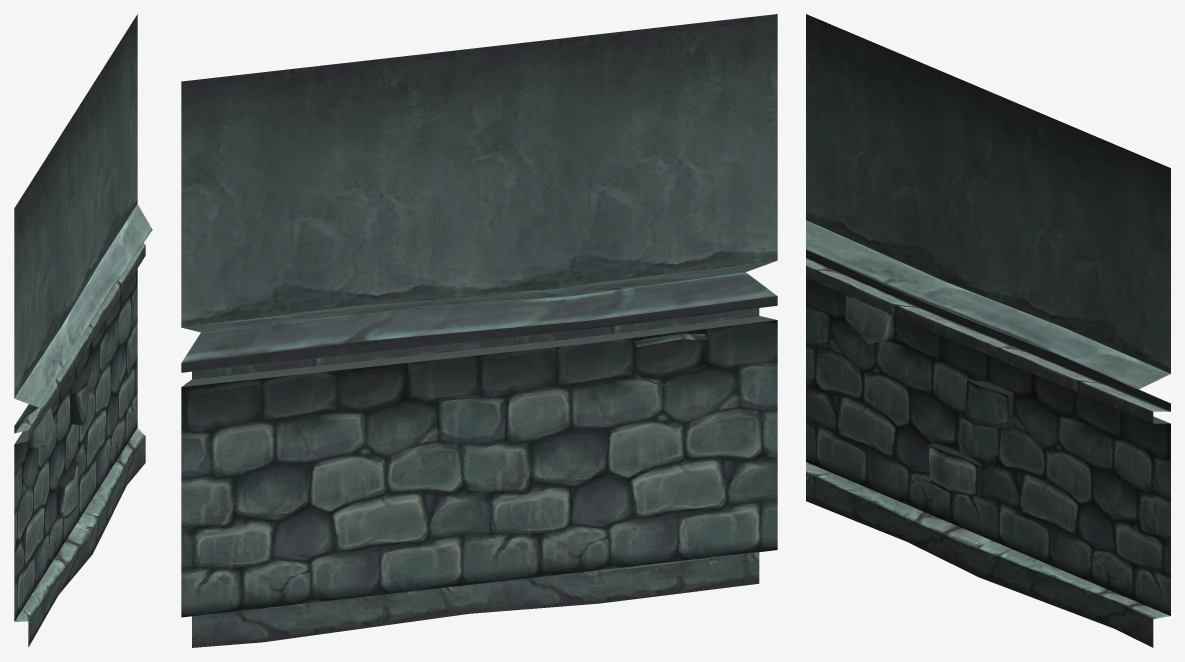
Rendered from crypt_wall_diagnol_01.fbx.
3 renders of one model, left to right at view 1: azimuth 30°, elevation 25°; view 2: azimuth 150°, elevation 25°; view 3: azimuth 270°, elevation 25°, orthographic. The views are drawn at different scales.
Visible parts, largest first — view 1: crypt_wall_diagnol_01-0; view 2: crypt_wall_diagnol_01-0; view 3: crypt_wall_diagnol_01-0.
Boxes of the visible parts, x1=… form: crypt_wall_diagnol_01-0: x1=14, y1=14, x2=152, y2=647; crypt_wall_diagnol_01-0: x1=181, y1=14, x2=777, y2=647; crypt_wall_diagnol_01-0: x1=806, y1=14, x2=1170, y2=647.
Size of the model in its own units: 3.79 by 5.5 by 3.79.
